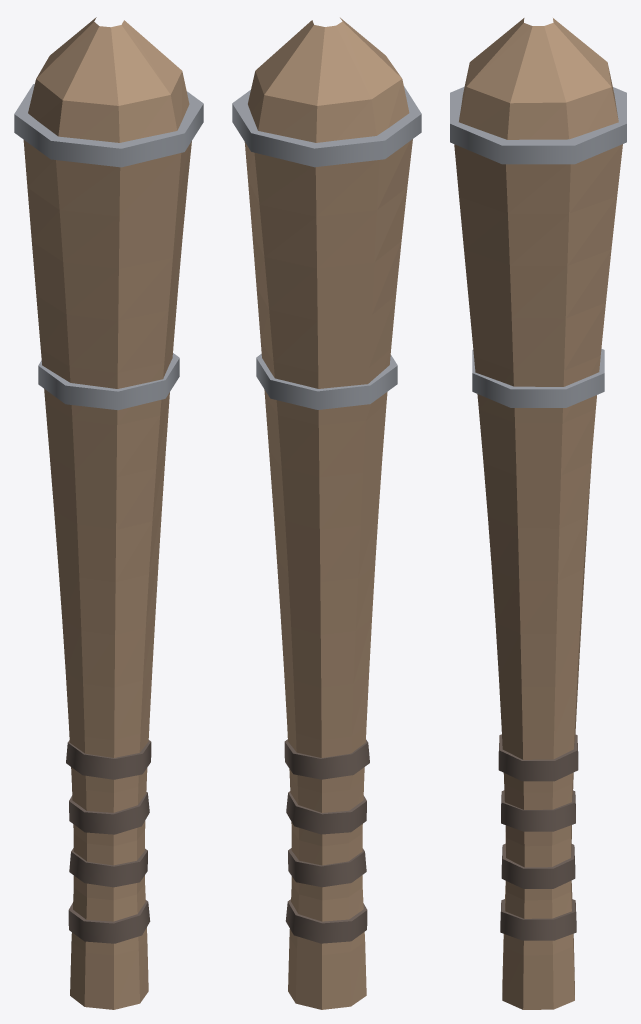
The model's file is club_tapered_oak.gltf.
3 renders of one model, left to right at view 1: azimuth 30°, elevation 25°; view 2: azimuth 150°, elevation 25°; view 3: azimuth 270°, elevation 25°, orthographic.
Visible parts, largest first — view 1: Wooden_Club_Body, Metal_Bands, Leather_Grip_Wraps; view 2: Wooden_Club_Body, Metal_Bands, Leather_Grip_Wraps; view 3: Wooden_Club_Body, Metal_Bands, Leather_Grip_Wraps.
Boxes of the visible parts, bbox=[...] form: Wooden_Club_Body: bbox=[23, 17, 191, 1009]; Metal_Bands: bbox=[14, 84, 203, 410]; Leather_Grip_Wraps: bbox=[66, 740, 151, 943]; Wooden_Club_Body: bbox=[244, 17, 412, 1009]; Metal_Bands: bbox=[232, 86, 421, 409]; Leather_Grip_Wraps: bbox=[284, 739, 369, 943]; Wooden_Club_Body: bbox=[454, 18, 622, 1009]; Metal_Bands: bbox=[450, 86, 626, 407]; Leather_Grip_Wraps: bbox=[498, 734, 578, 940].
Size of the model in its own units: 0.2056 by 1.25 by 0.2056.
